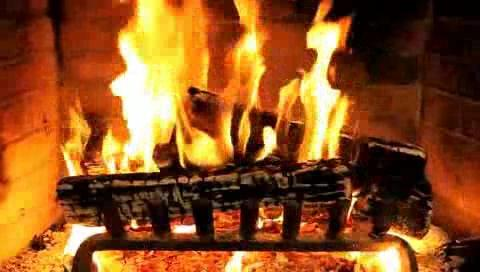fire: (14, 0, 480, 200)
